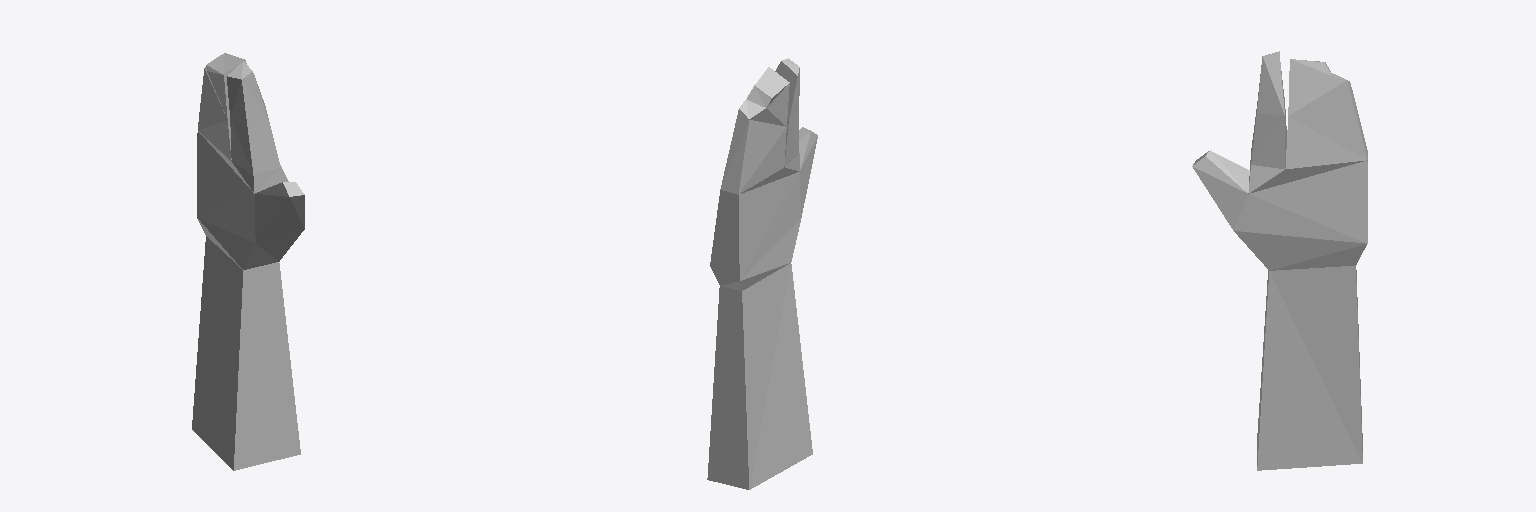
File: mori.obj
3 views of the same model, side by side, from view 1: azimuth 30°, elevation 25°; view 2: azimuth 150°, elevation 25°; view 3: azimuth 270°, elevation 25° (orthographic).
Visible parts, largest first — view 1: Cube; view 2: Cube; view 3: Cube.
Part boxes in pixels (bbox=[...]): Cube: bbox=[192, 53, 304, 470]; Cube: bbox=[707, 58, 817, 489]; Cube: bbox=[1192, 51, 1367, 470].
Size of the model in its own units: 1.32 by 7.42 by 2.98.